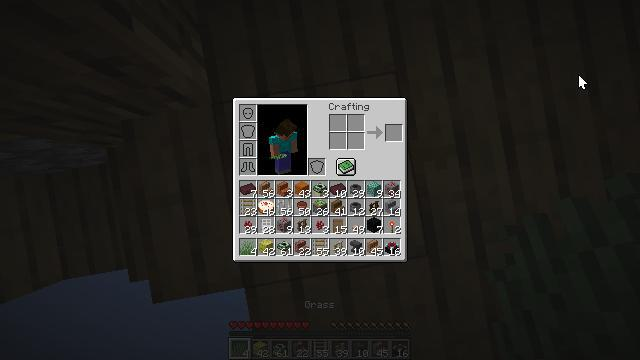cursor: (578, 74, 588, 90)
